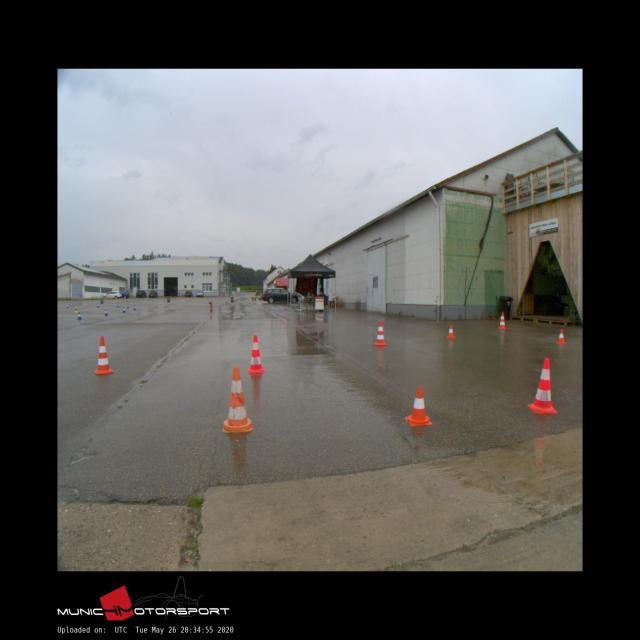blue_cone: (77, 312, 82, 320), (122, 306, 126, 312), (105, 309, 108, 316), (134, 304, 136, 310)
large_orange_cone: (223, 366, 252, 432), (527, 358, 557, 413), (94, 336, 112, 374), (248, 335, 264, 373), (374, 321, 387, 345), (498, 311, 506, 329)
orange_cone: (405, 386, 431, 425), (556, 329, 566, 343), (446, 324, 454, 338)
yellow_cone: (75, 306, 78, 312)
